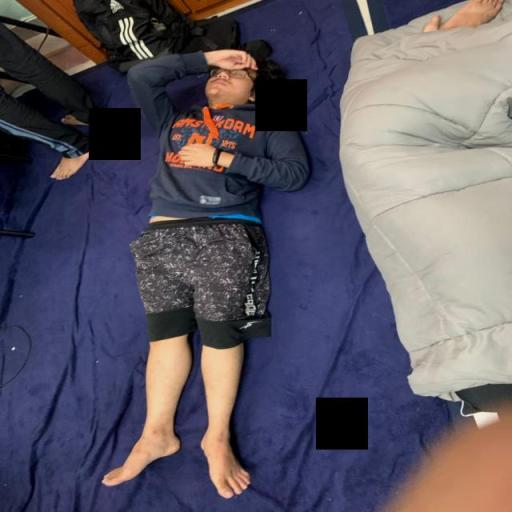Fall: (115, 43, 304, 491)
